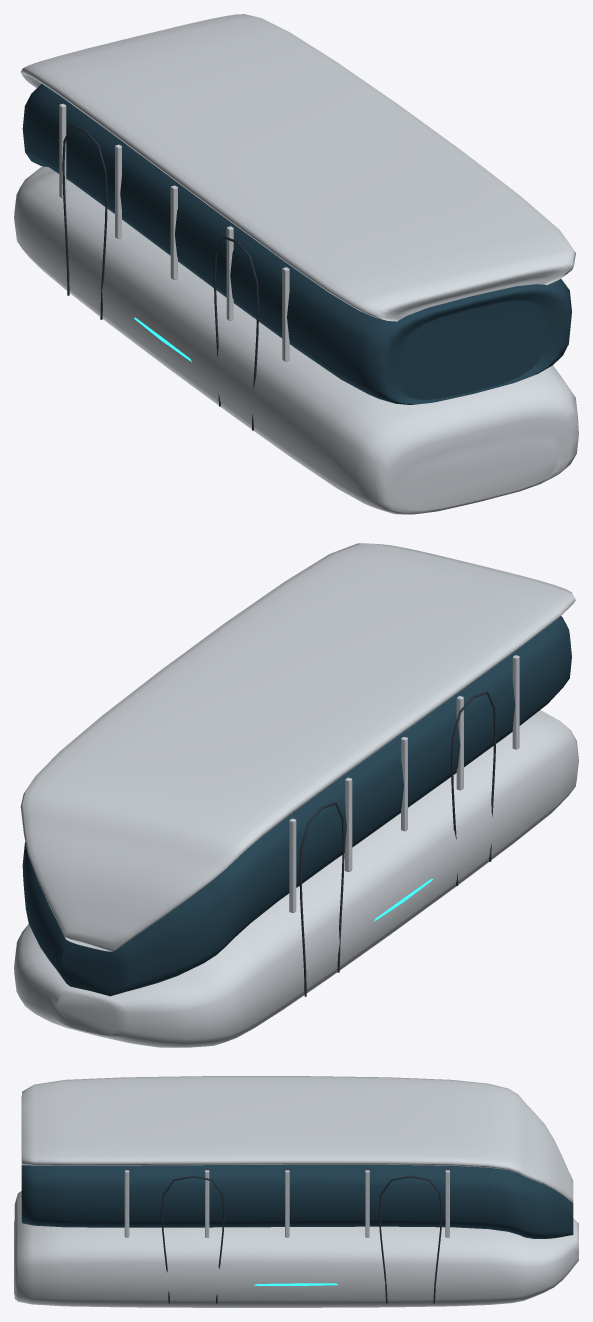
File: hover_tram.gltf
The picture shows the model from 3 angles, top to bottom: view 1: azimuth 30°, elevation 25°; view 2: azimuth 150°, elevation 25°; view 3: azimuth 270°, elevation 25°; orthographic projection. The views are drawn at different scales.
Parts seen in each view (by area): view 1: hover_tram; view 2: hover_tram; view 3: hover_tram.
Part boxes in pixels (<box>): hover_tram: <box>14,14,578,514</box>; hover_tram: <box>14,543,578,1047</box>; hover_tram: <box>14,1076,578,1307</box>.
Size of the model in its own units: 2.65 by 2.41 by 7.4.
